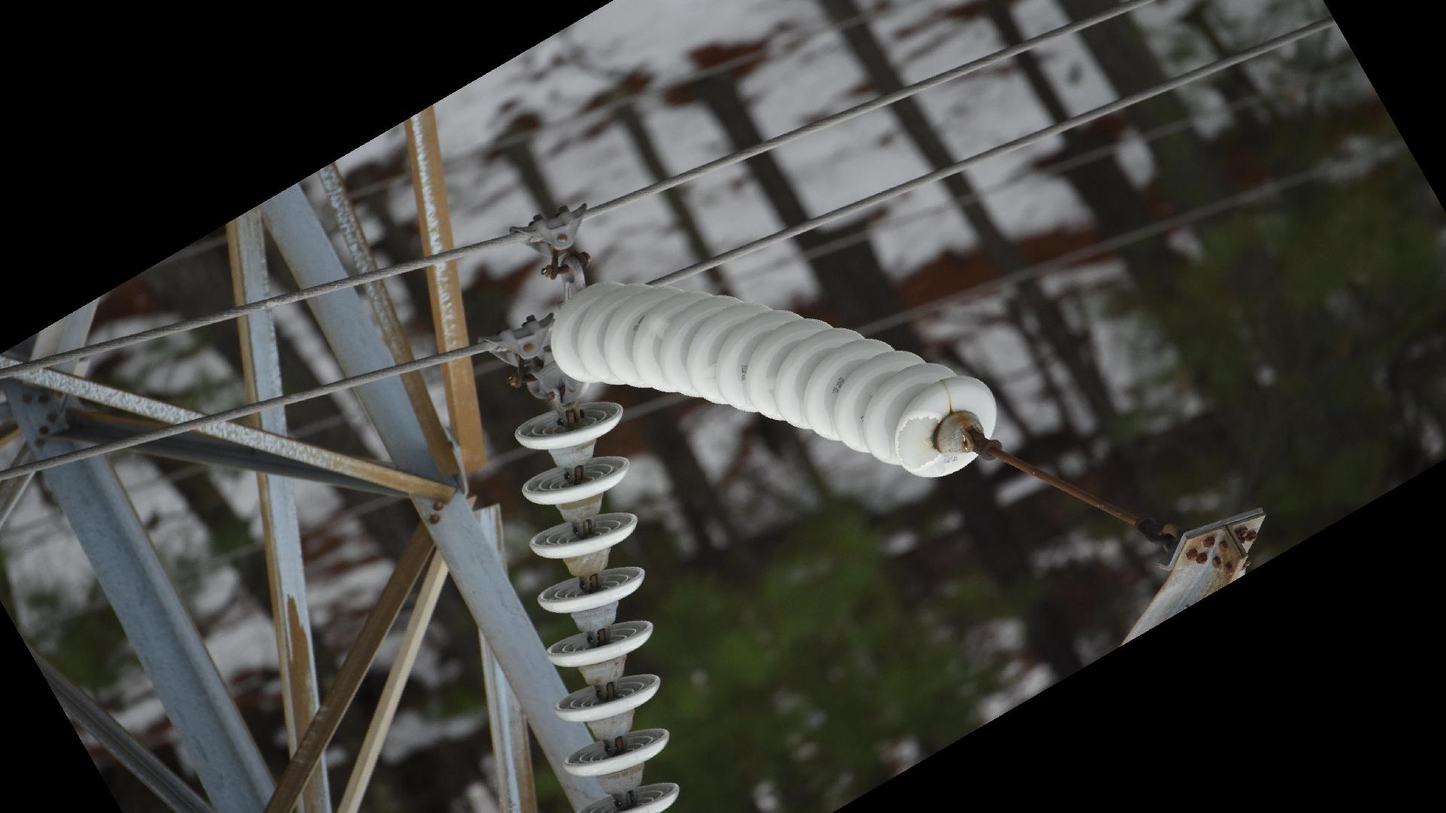insulator: (543, 276, 1001, 483), (506, 394, 685, 813)
insulator_flashover: (894, 412, 943, 473)
